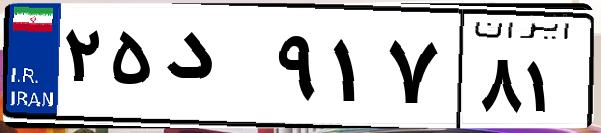1: (330, 28, 385, 110), (525, 38, 570, 115)
2: (57, 26, 110, 100)
5: (110, 28, 158, 98)
7: (385, 28, 445, 110)
8: (475, 38, 525, 113)
9: (270, 28, 330, 110)
د: (158, 20, 270, 120)
